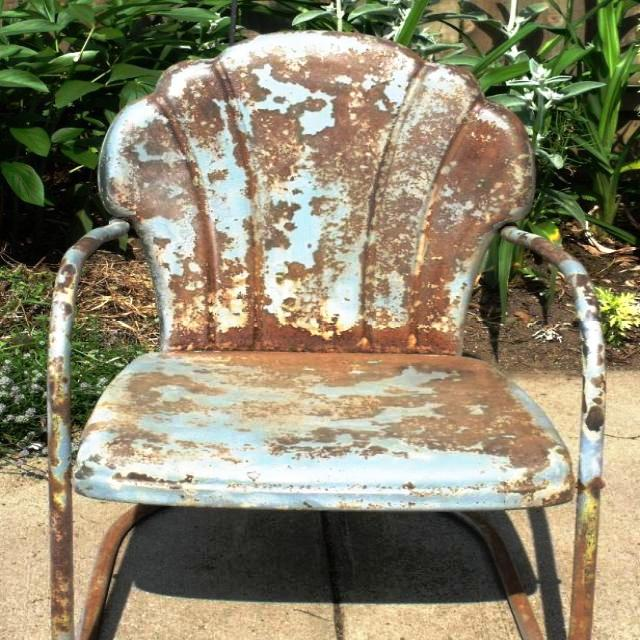Corrosion: (47, 32, 606, 640), (46, 331, 74, 640), (79, 507, 138, 640), (570, 486, 602, 640), (510, 594, 545, 640), (579, 478, 607, 504), (587, 406, 606, 432)
